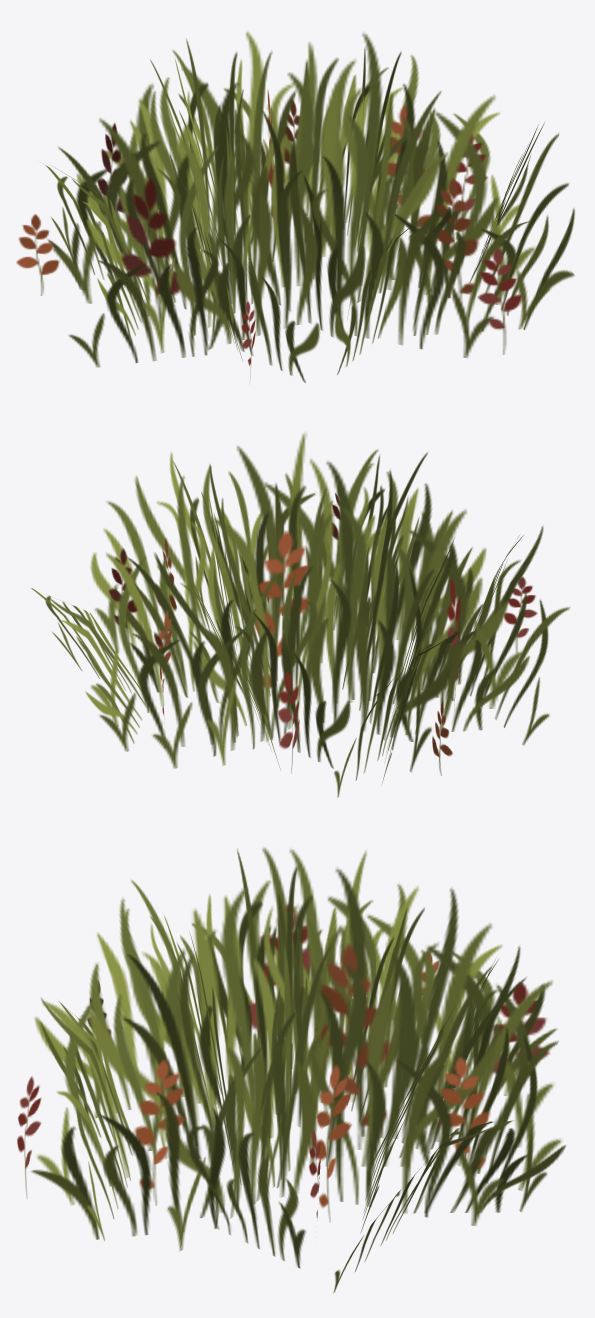
File: Forest_Grass_5.glb
3 views of the same model, one above another, from view 1: azimuth 30°, elevation 25°; view 2: azimuth 150°, elevation 25°; view 3: azimuth 270°, elevation 25° (orthographic). The views are drawn at different scales.
Parts seen in each view (by area): view 1: Forest_Grass_5; view 2: Forest_Grass_5; view 3: Forest_Grass_5.
Part boxes in pixels (<box>): Forest_Grass_5: <box>16,31,574,382</box>; Forest_Grass_5: <box>31,433,569,797</box>; Forest_Grass_5: <box>17,847,565,1293</box>.
Size of the model in its own units: 1.46 by 0.7532 by 1.23.
1 material, 1 textured.
